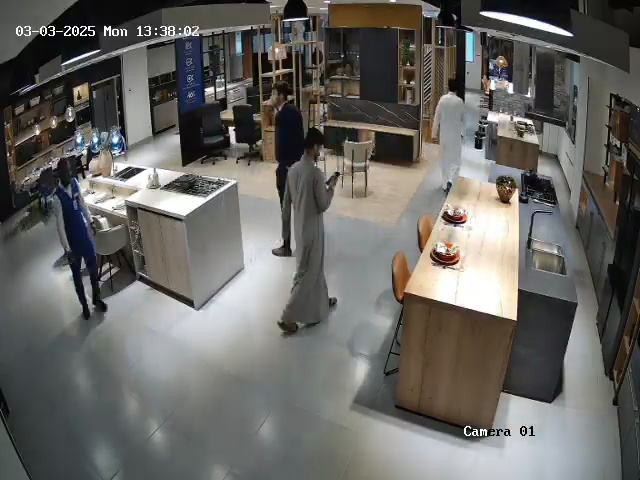employee: (52, 157, 108, 319), (265, 80, 305, 257)
male: (276, 127, 341, 333), (431, 79, 467, 193)
